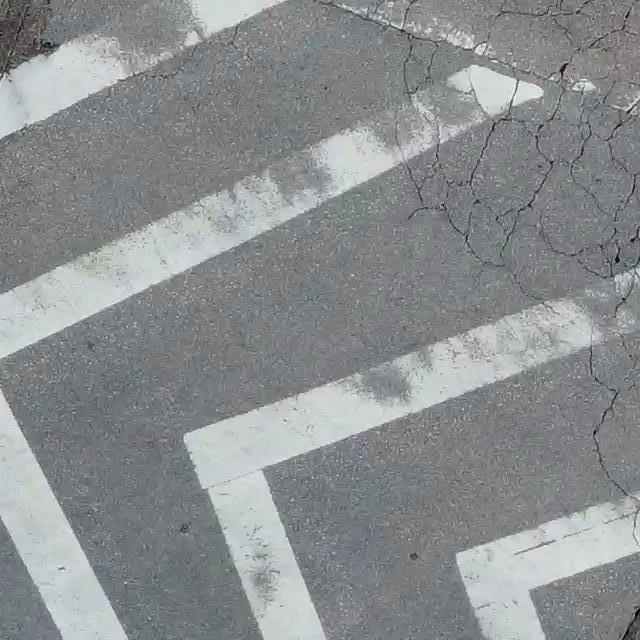PIEL DE COCODRILO: (309, 0, 639, 559)
